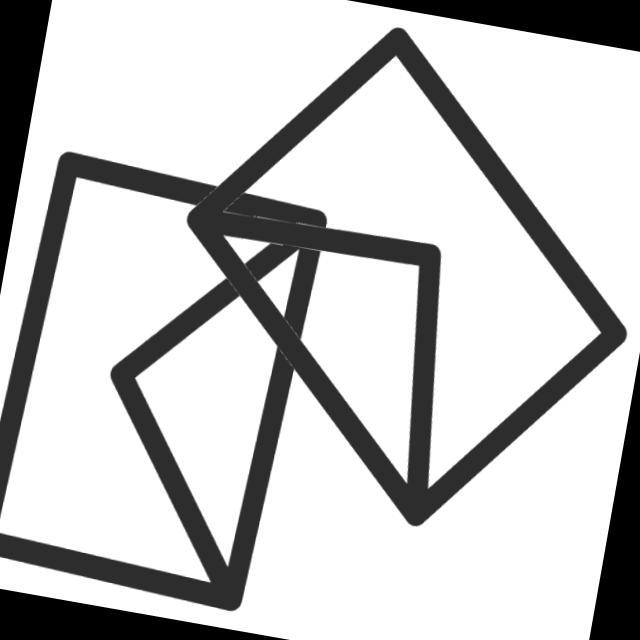letter: (174, 15, 640, 547), (1, 141, 348, 622)
